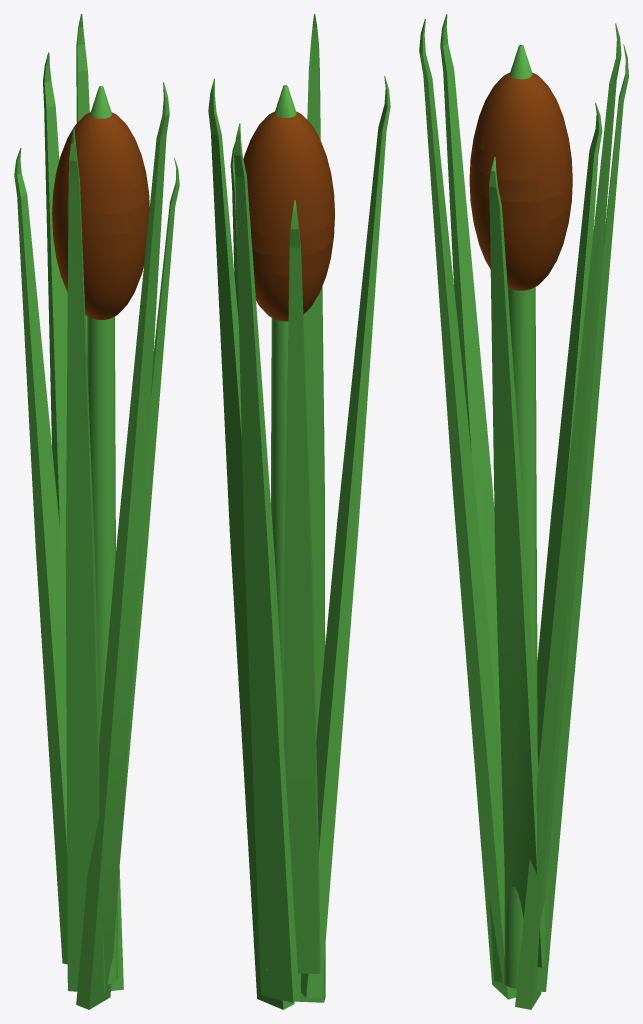
Rendered from osmankaami.fbx.
3 renders of one model, left to right at view 1: azimuth 30°, elevation 25°; view 2: azimuth 150°, elevation 25°; view 3: azimuth 270°, elevation 25°, orthographic. The views are drawn at different scales.
Visible parts, largest first — view 1: Cube.005; view 2: Cube.005; view 3: Cube.005.
Part boxes in pixels (box(x1,y1,x2,y2)): Cube.005: box(14, 14, 179, 1009); Cube.005: box(208, 14, 390, 1009); Cube.005: box(419, 14, 628, 1009).
Size of the model in its own units: 148 by 115 by 769.
